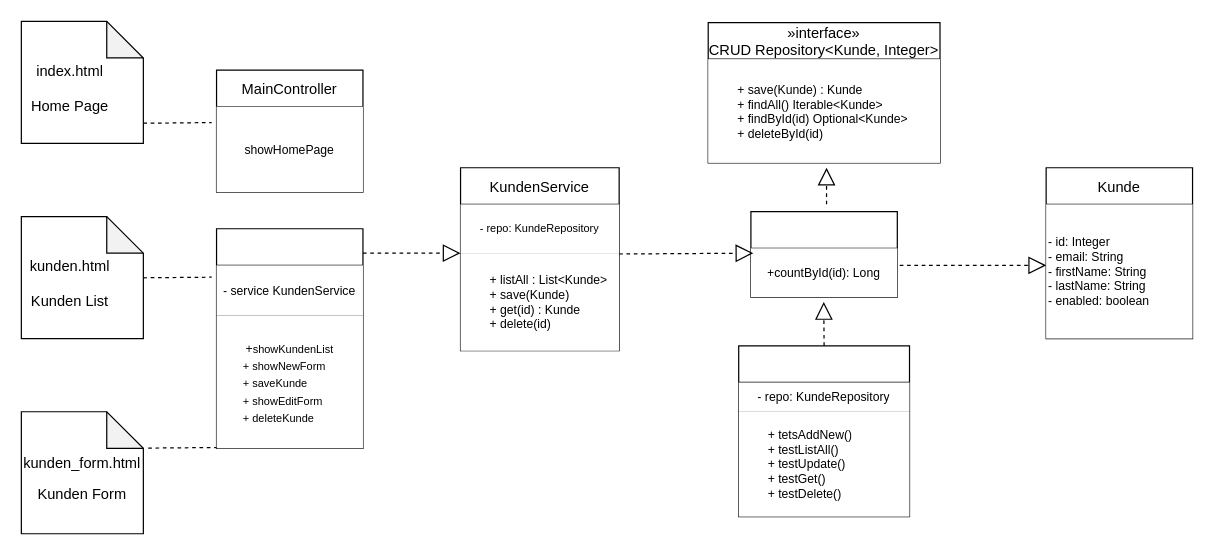
Image size: 1214x555. Some labels were removed from this diagram. The shapes that lost their labels are listed below. From the top down, each one's box as (x1, y1, x2, y2) in pixels, then its label:
(750, 210, 897, 297): »interface» KundeRepository
(215, 228, 363, 448): KundenController
(737, 345, 910, 517): KundeRepository Tests
